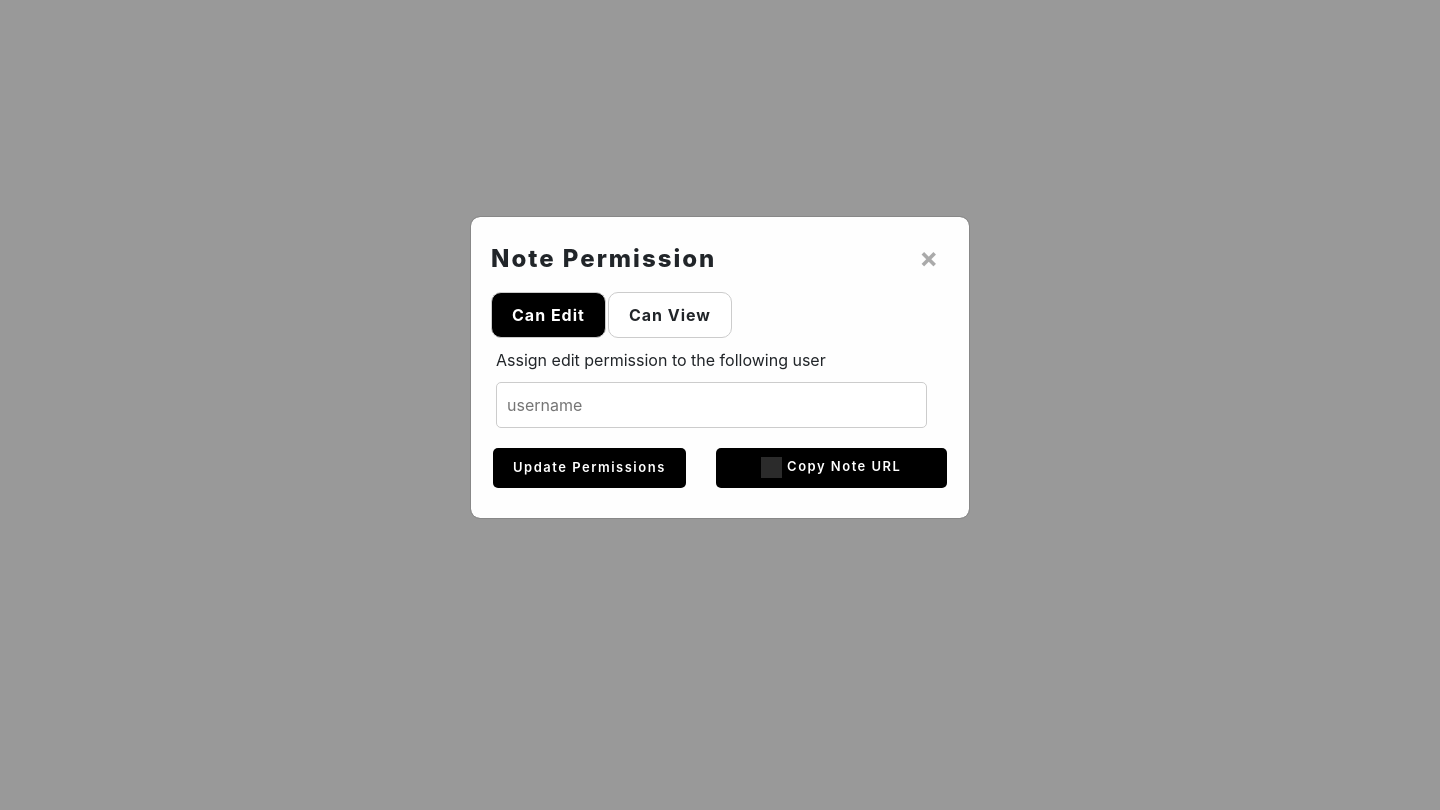
Test: PermissionTab Component › handles form submission correctly for edit permission
The width and height of the screenshot is (1440, 810).
Step 1. Type "testuser" into the field with placeholder "username" → (712, 405), box [496,382,927,428]
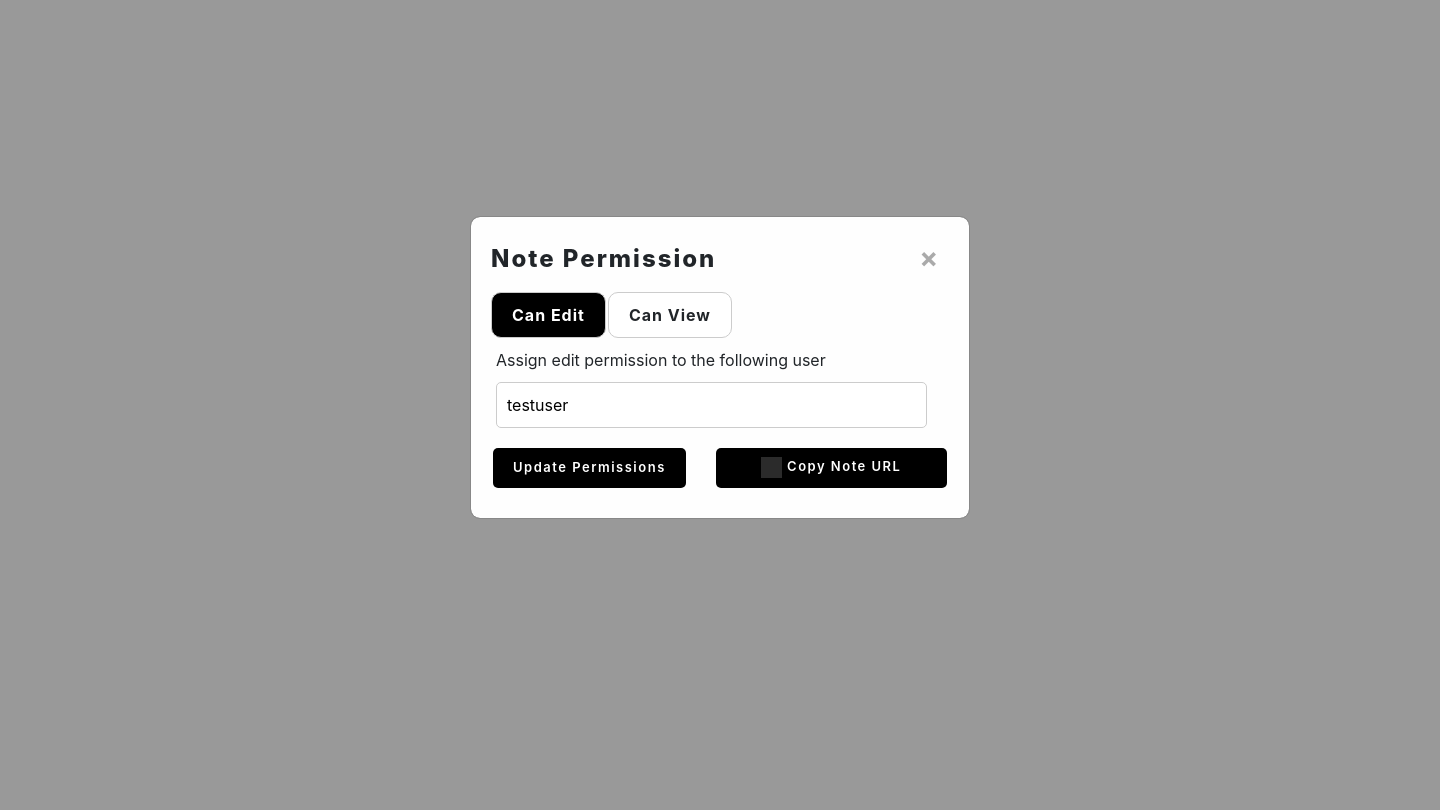
Step 2. Click the button "Update Permissions" → (589, 468), box [493,448,686,488]
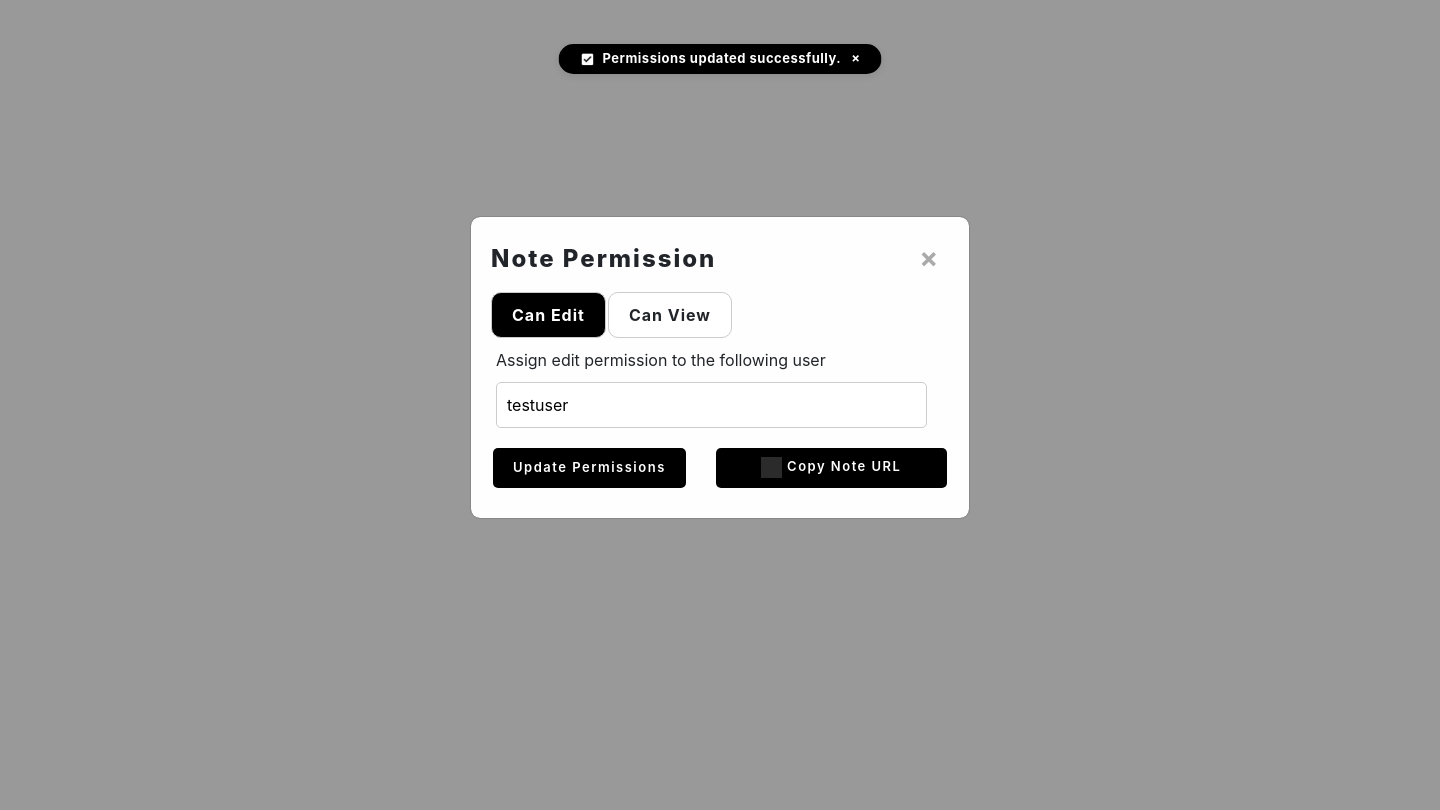
Result: the text "Permissions updated successfully." is shown at [602,50,841,66]
